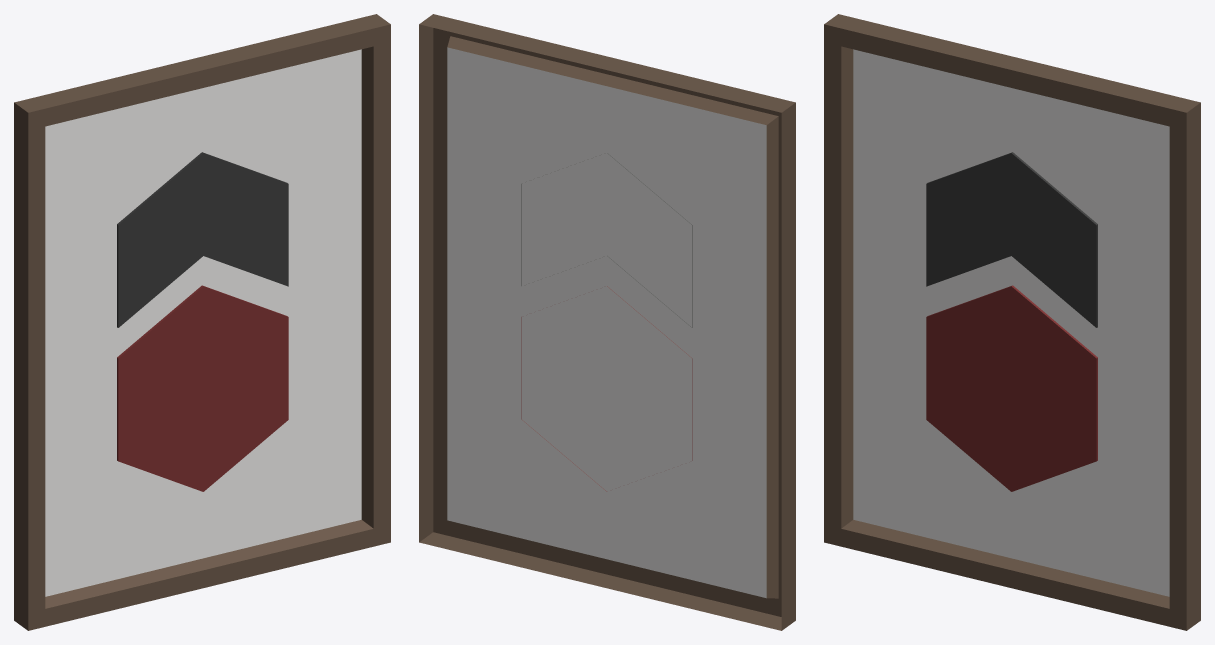
The model's file is Picture_14.fbx.
3 renders of one model, left to right at view 1: azimuth 30°, elevation 25°; view 2: azimuth 150°, elevation 25°; view 3: azimuth 330°, elevation 25°, orthographic.
Parts seen in each view (by area): view 1: Picture_14; view 2: Picture_14; view 3: Picture_14.
Part boxes in pixels (left/top/right/bottom): Picture_14: left=14, top=14, right=390, bottom=630; Picture_14: left=419, top=14, right=795, bottom=630; Picture_14: left=824, top=14, right=1200, bottom=630.
Size of the model in its own units: 83.46 by 5.63 by 114.
